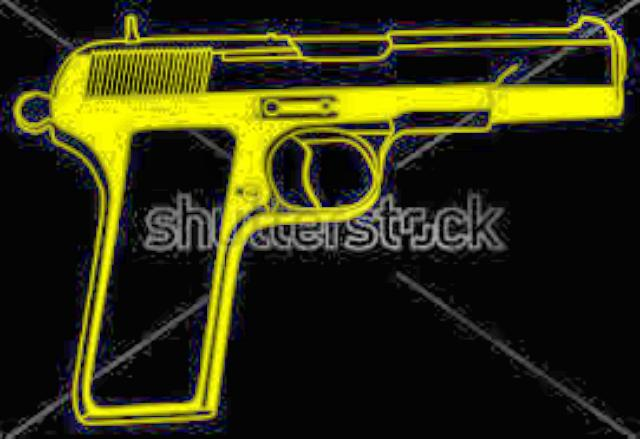pistol: (17, 3, 623, 425)
